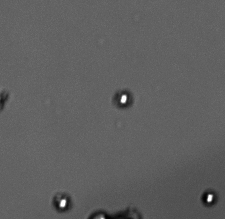Living Cell: (113, 89, 132, 109), (53, 192, 71, 212), (201, 188, 218, 207)
